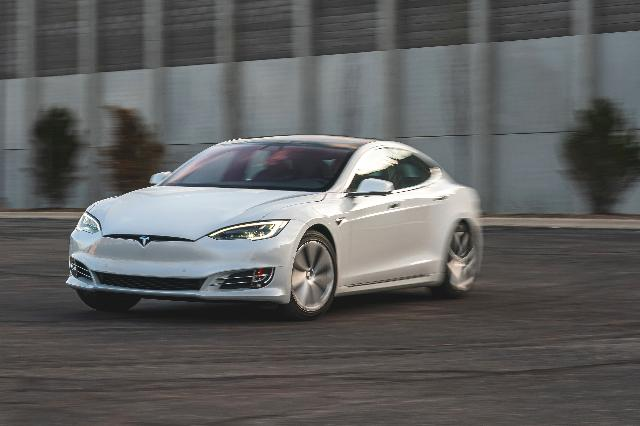tesla: (65, 134, 483, 318)
